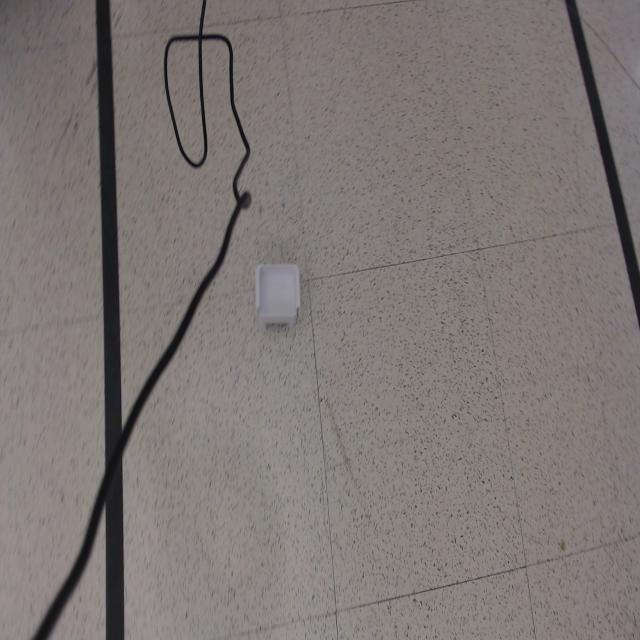wbox: (254, 260, 302, 331)
